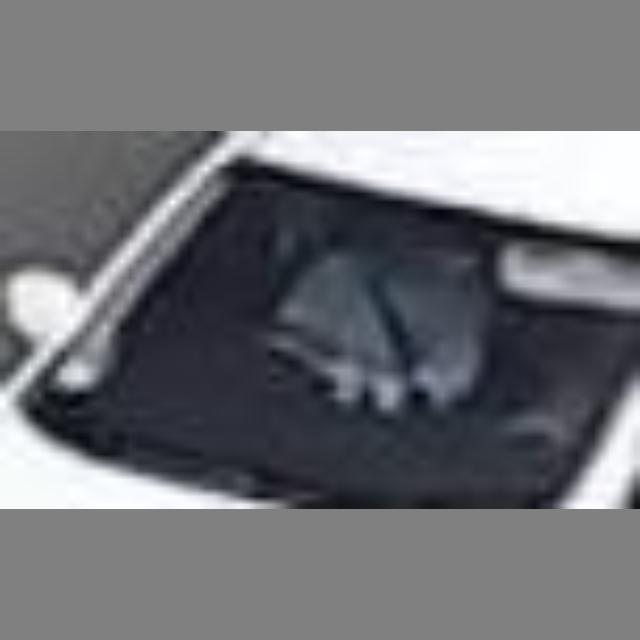pakai: (244, 173, 463, 409)
